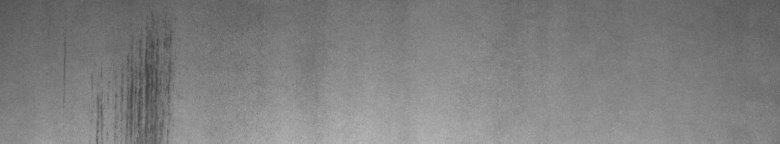ka: (94, 31, 174, 136)
